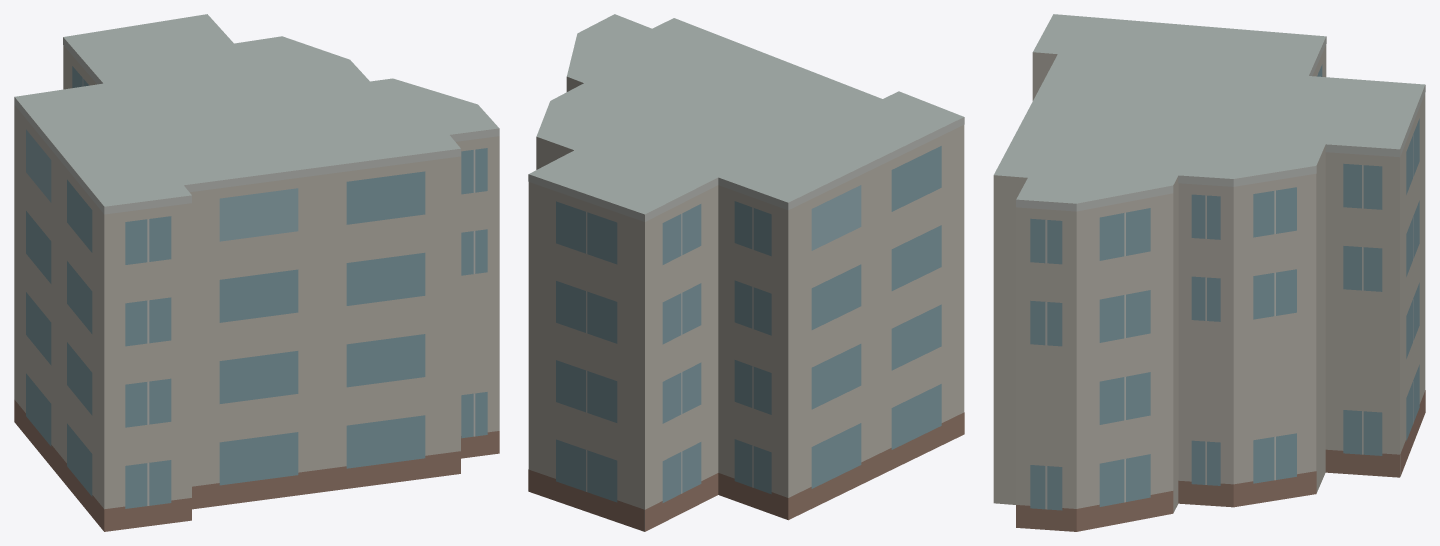
Rendered from survey-upis-32900643.glb.
The picture shows the model from 3 angles, left to right: view 1: azimuth 30°, elevation 25°; view 2: azimuth 150°, elevation 25°; view 3: azimuth 270°, elevation 25°; orthographic projection. The views are drawn at different scales.
Visible parts, largest first — view 1: survey-upis-32900643.tmp; view 2: survey-upis-32900643.tmp; view 3: survey-upis-32900643.tmp.
Part boxes in pixels (x1,y1,x2,y2): survey-upis-32900643.tmp: [14, 14, 499, 531]; survey-upis-32900643.tmp: [528, 14, 964, 531]; survey-upis-32900643.tmp: [993, 14, 1425, 531].
Size of the model in its own units: 12.65 by 10.2 by 12.17.
